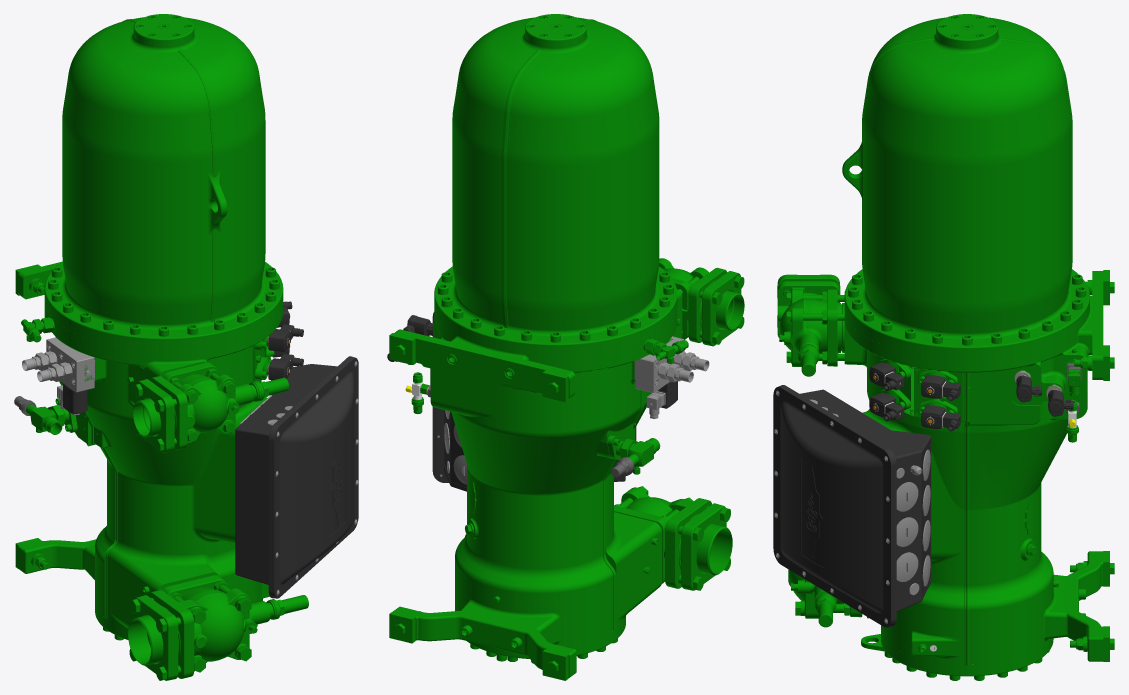
File: compressor.glb
The picture shows the model from 3 angles, left to right: view 1: azimuth 30°, elevation 25°; view 2: azimuth 150°, elevation 25°; view 3: azimuth 270°, elevation 25°; orthographic projection. The views are drawn at different scales.
Visible parts, largest first — view 1: BODY_CSH8583-93, TERMINAL-BOX-CS-HS85-95, SHUT-OFF-VALVE-COMPL-D105L, VALVE_COMPL_D76L-DN80_N_G, CONNECT-OIL-COOLER-CSH85-95, SHUT_OFF_VALVED_28L_1_1_8, KIT_DAMPER_ELEMENTS_CS85, BRAZED_BUSH_D4_1-8_DN100, SOLDER_AND_WELDING_BUSH_D76, SHUT-OFF_VALVE_D12L_1-2_SHORT; view 2: BODY_CSH8583-93, SHUT-OFF-VALVE-COMPL-D105L, VALVE_COMPL_D76L-DN80_N_G, KIT_DAMPER_ELEMENTS_CS85, CONNECT-OIL-COOLER-CSH85-95, TERMINAL-BOX-CS-HS85-95, SHUT_OFF_VALVED_28L_1_1_8, SHUT-OFF_VALVE_D12L_1-2_SHORT, BRAZED_BUSH_D4_1-8_DN100; view 3: BODY_CSH8583-93, TERMINAL-BOX-CS-HS85-95, VALVE_COMPL_D76L-DN80_N_G, KIT_DAMPER_ELEMENTS_CS85, SHUT-OFF-VALVE-COMPL-D105L, SOLDER_AND_WELDING_BUSH_D76, OIL-LEVEL-SWITCH-CS (×2).
Part boxes in pixels (box(x1,y1,x2,y2)): BODY_CSH8583-93: box(17, 14, 303, 640); TERMINAL-BOX-CS-HS85-95: box(235, 356, 358, 598); SHUT-OFF-VALVE-COMPL-D105L: box(128, 585, 308, 680); VALVE_COMPL_D76L-DN80_N_G: box(132, 373, 289, 452); CONNECT-OIL-COOLER-CSH85-95: box(22, 337, 94, 415); SHUT_OFF_VALVED_28L_1_1_8: box(14, 396, 77, 434); KIT_DAMPER_ELEMENTS_CS85: box(15, 264, 48, 569); BRAZED_BUSH_D4_1-8_DN100: box(162, 575, 227, 598); SOLDER_AND_WELDING_BUSH_D76: box(162, 362, 218, 384); SHUT-OFF_VALVE_D12L_1-2_SHORT: box(21, 317, 55, 342); BODY_CSH8583-93: box(393, 14, 682, 677); SHUT-OFF-VALVE-COMPL-D105L: box(619, 486, 732, 590); VALVE_COMPL_D76L-DN80_N_G: box(659, 258, 744, 346); KIT_DAMPER_ELEMENTS_CS85: box(389, 333, 573, 680); CONNECT-OIL-COOLER-CSH85-95: box(634, 336, 709, 418); TERMINAL-BOX-CS-HS85-95: box(432, 312, 636, 491); SHUT_OFF_VALVED_28L_1_1_8: box(607, 435, 660, 477); SHUT-OFF_VALVE_D12L_1-2_SHORT: box(643, 339, 688, 363); BRAZED_BUSH_D4_1-8_DN100: box(614, 504, 669, 583); BODY_CSH8583-93: box(842, 14, 1103, 680); TERMINAL-BOX-CS-HS85-95: box(773, 385, 931, 627); VALVE_COMPL_D76L-DN80_N_G: box(777, 274, 844, 376); KIT_DAMPER_ELEMENTS_CS85: box(1070, 270, 1114, 661); SHUT-OFF-VALVE-COMPL-D105L: box(788, 569, 844, 627); SOLDER_AND_WELDING_BUSH_D76: box(822, 289, 844, 366); OIL-LEVEL-SWITCH-CS (×2): box(1014, 370, 1073, 416).
Bounding box in the file's own units: 0.7817 × 1.54 × 0.7643.
